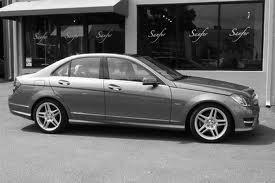car: (6, 30, 270, 162)
